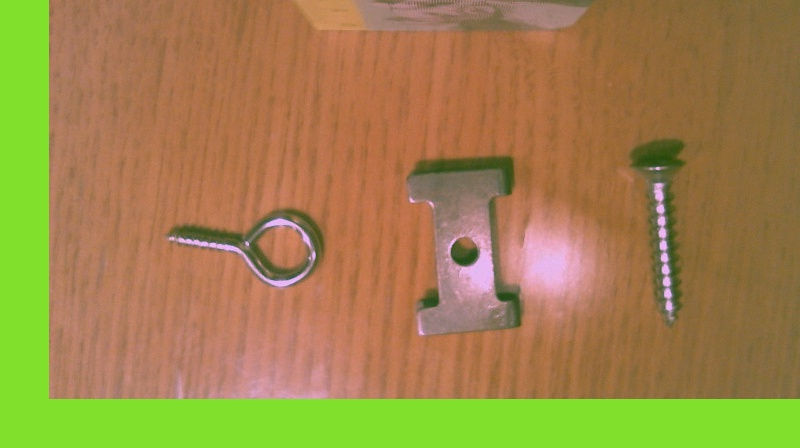O001: (159, 207, 324, 290)
O002: (402, 159, 523, 337)
S001: (618, 149, 694, 328)
